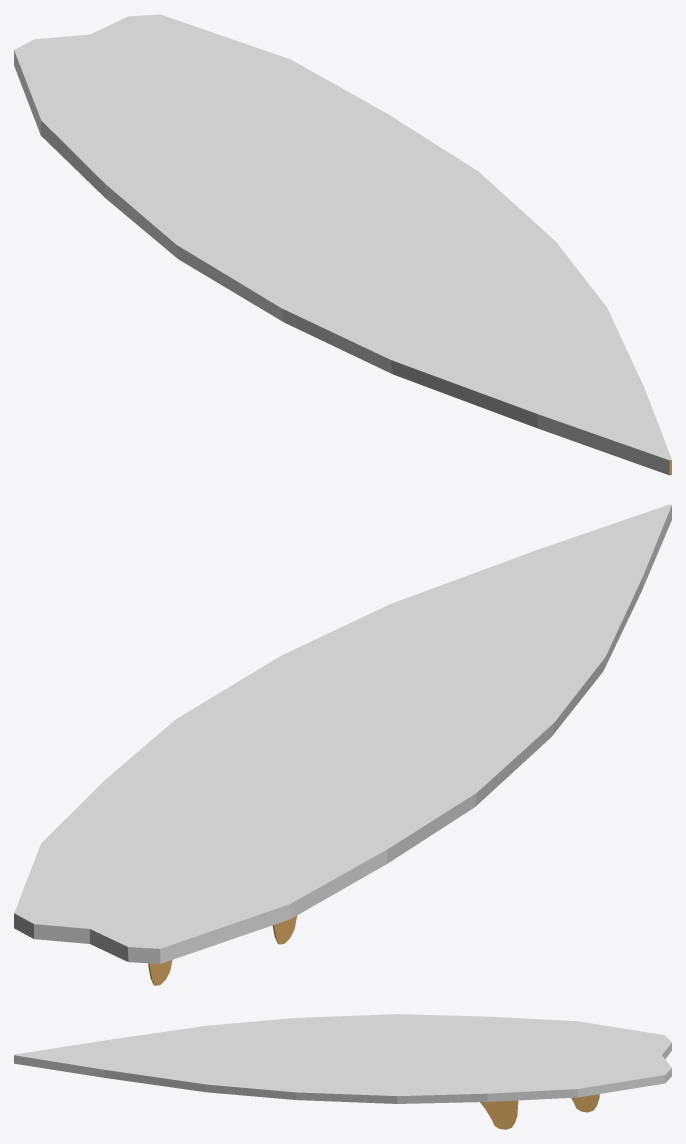
The model's file is surfboard.fbx.
3 views of the same model, one above another, from view 1: azimuth 30°, elevation 25°; view 2: azimuth 150°, elevation 25°; view 3: azimuth 270°, elevation 25° (orthographic). The views are drawn at different scales.
Visible parts, largest first — view 1: Plane; view 2: Plane; view 3: Plane.
Boxes of the visible parts, box(x1,y1,x2,y2) form: Plane: box(14, 14, 671, 475); Plane: box(14, 504, 671, 985); Plane: box(14, 1014, 671, 1129).
Bounding box in the file's own units: 118 × 39.12 × 402.
